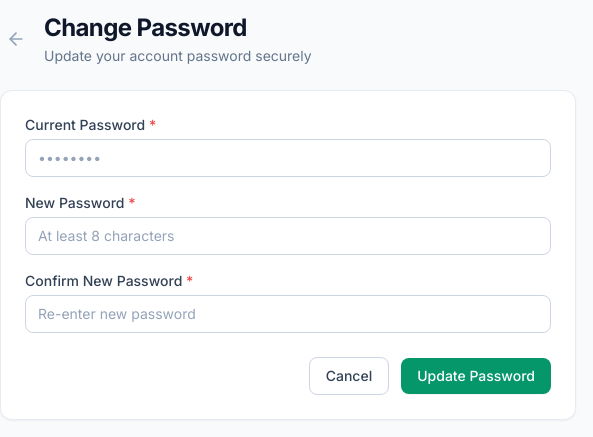
Frontend Auth & Profile Component Tests › Auth.ChangePassword.Success: submits current and new passwords with matching confirmation
The width and height of the screenshot is (593, 437).
Type "OldPassword123" into the password field labelled "Current Password *" at (288, 158), box [25,139,551,177]
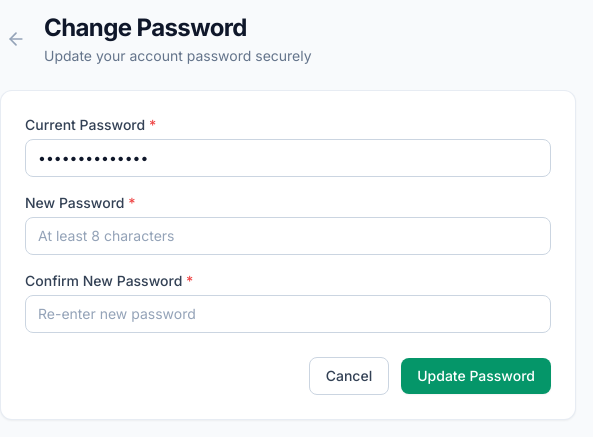
Type "NewPassword123" into the password field labelled "New Password *" at (288, 236), box [25,217,551,255]
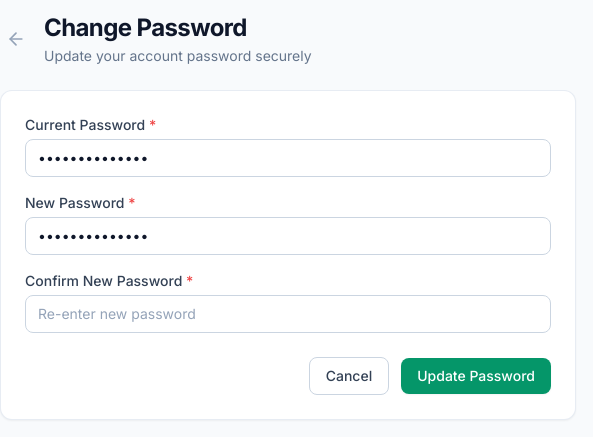
Type "NewPassword123" into the password field labelled "Confirm New Password *" at (288, 314), box [25,295,551,333]
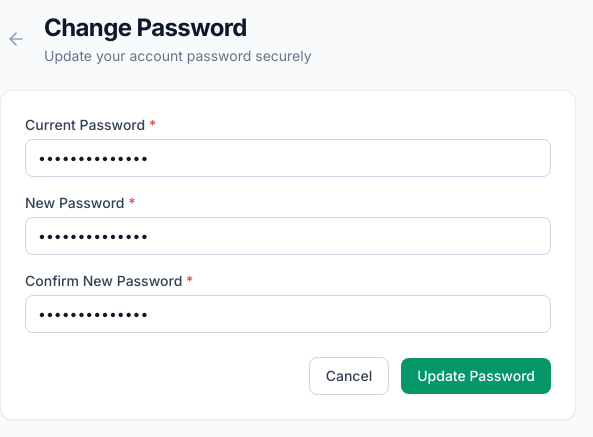
Click the button "Update Password" at (476, 376), box [401,358,551,394]
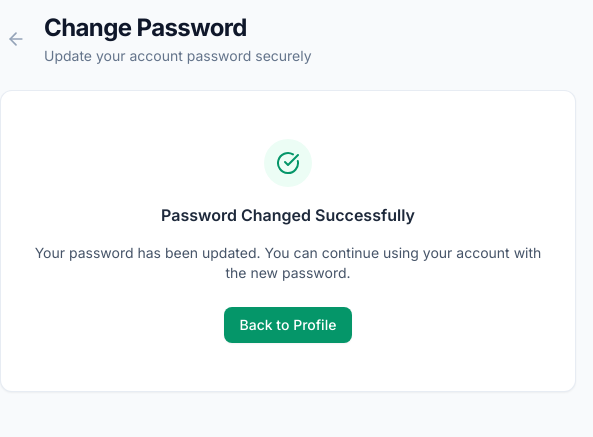
Now the heading "Password Changed Successfully" is shown, box [161,205,415,225]
